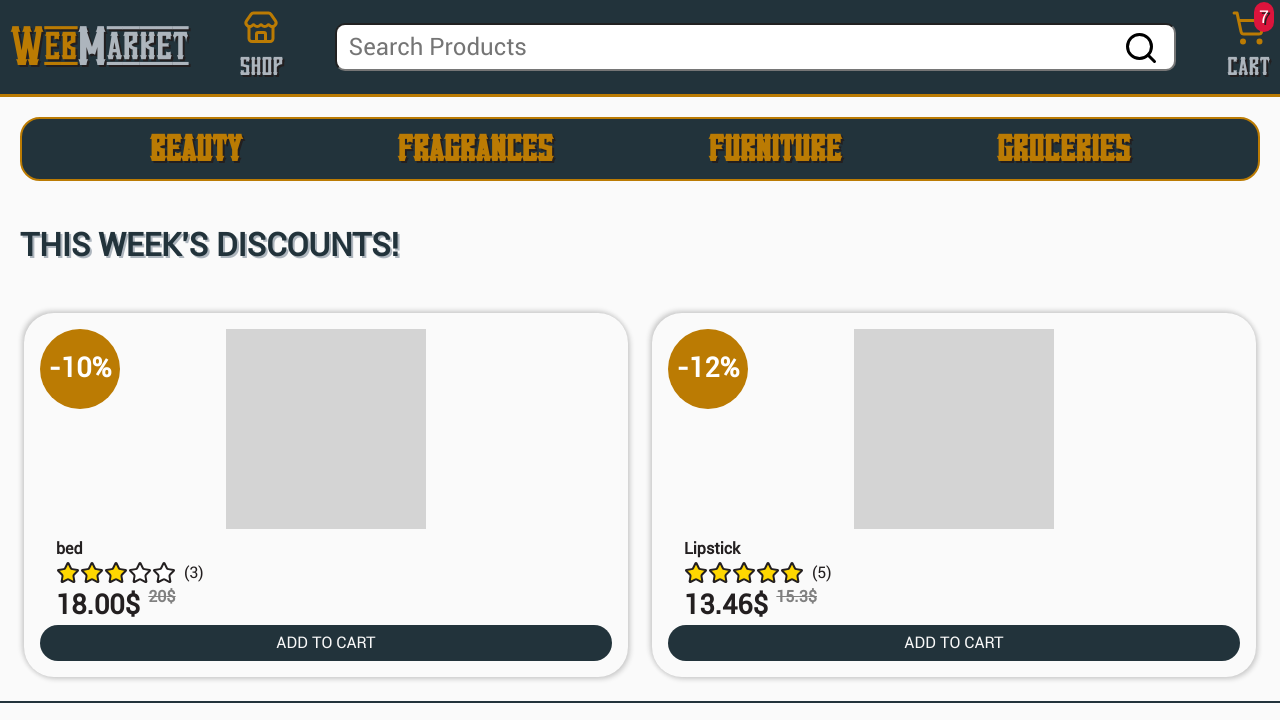
it: Shop component › furniture link redirects to the furniture category
Click the link "FURNITURE" at (775, 148), box [708,129,841,168]
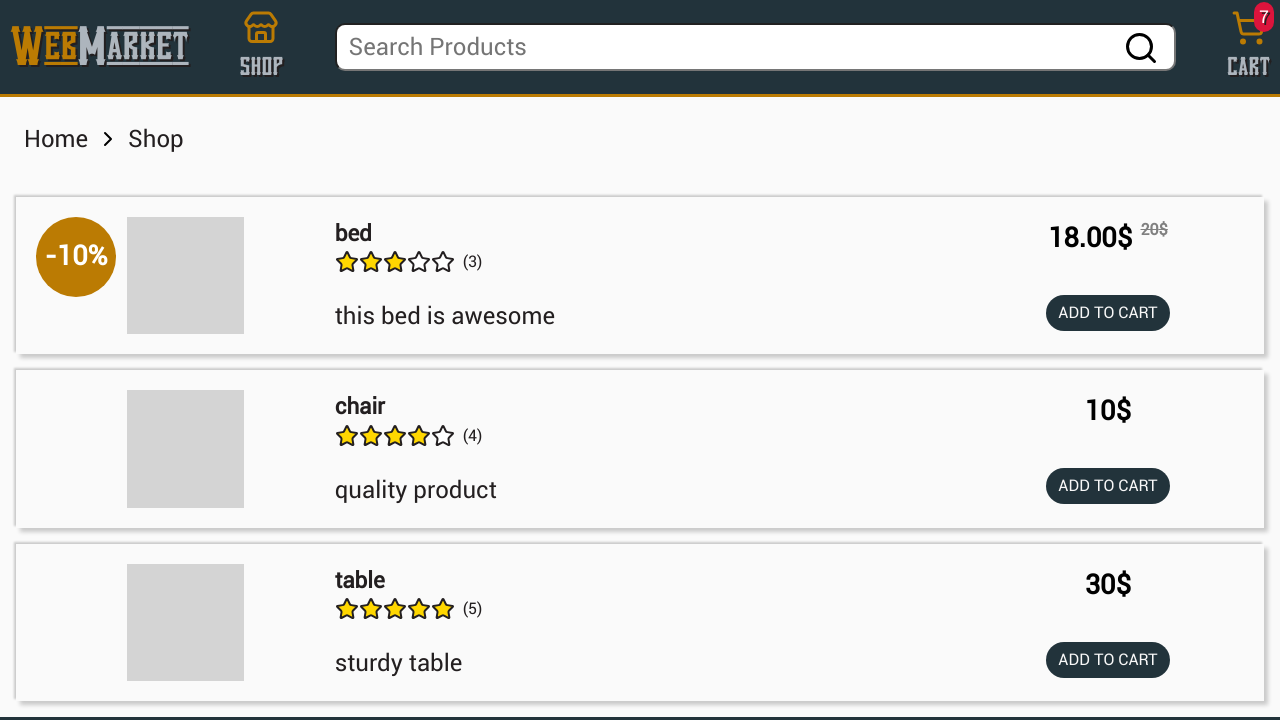
Expected: the heading "chair" is shown, [335,393,385,419]
Expected: the heading "table" is shown, [335,567,385,593]
